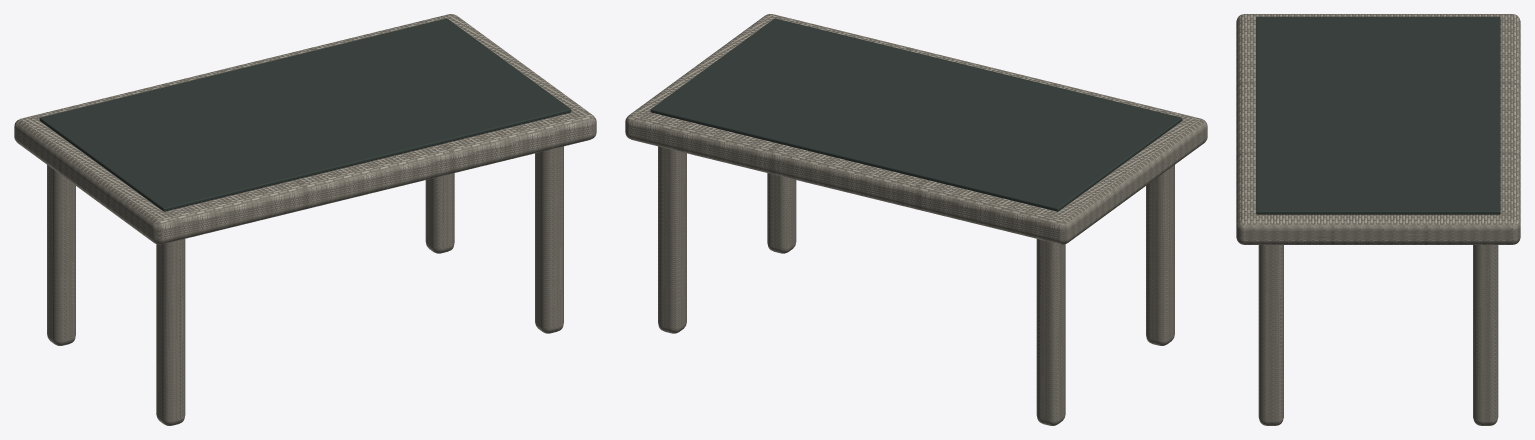
Rendered from premium-table.glb.
3 renders of one model, left to right at view 1: azimuth 30°, elevation 25°; view 2: azimuth 150°, elevation 25°; view 3: azimuth 270°, elevation 25°, orthographic. The views are drawn at different scales.
Visible parts, largest first — view 1: premium-table; view 2: premium-table; view 3: premium-table.
Part boxes in pixels (left/top/right/bottom): premium-table: left=14, top=14, right=596, bottom=425; premium-table: left=625, top=14, right=1207, bottom=425; premium-table: left=1236, top=14, right=1520, bottom=425.
Bounding box in the file's own units: 1.5 × 0.722 × 0.85.
2 materials, 1 textured.
